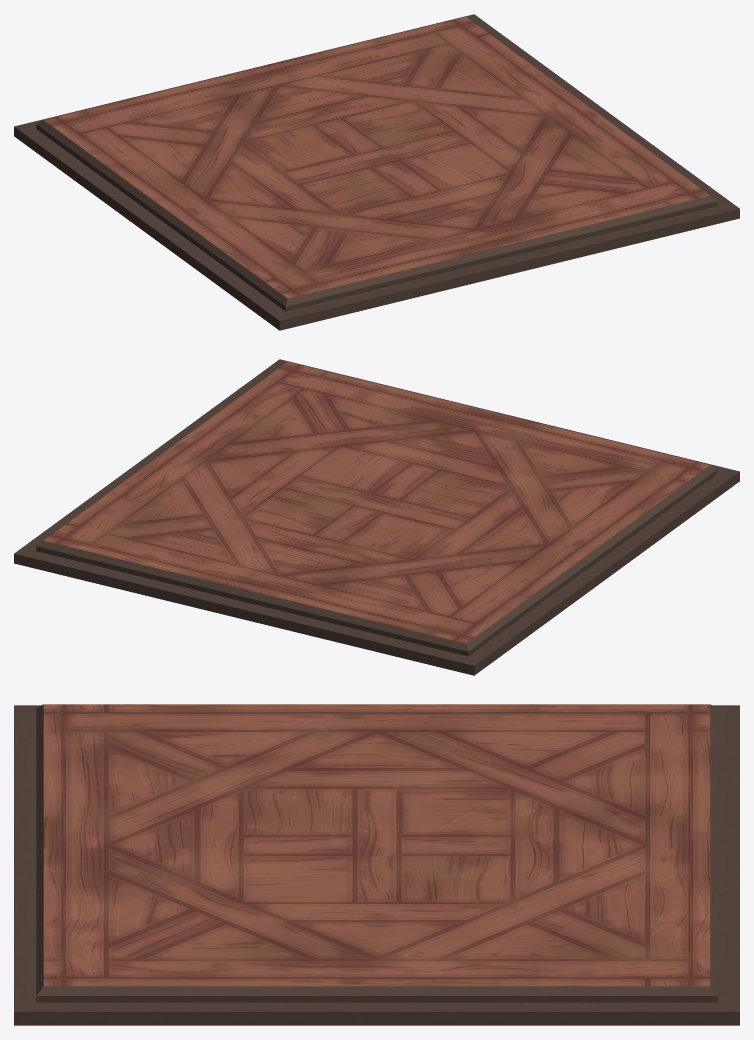
Rendered from WoodPlatform.glb.
The picture shows the model from 3 angles, top to bottom: view 1: azimuth 30°, elevation 25°; view 2: azimuth 150°, elevation 25°; view 3: azimuth 270°, elevation 25°; orthographic projection. The views are drawn at different scales.
Parts seen in each view (by area): view 1: WoodPlatform; view 2: WoodPlatform; view 3: WoodPlatform.
Boxes of the visible parts, x1,y1,x2,y2 form: WoodPlatform: (14, 14, 739, 330); WoodPlatform: (14, 359, 739, 675); WoodPlatform: (14, 704, 739, 1025).
Size of what is drawn, in the model's own units: 4.25 by 0.173 by 4.25.
Materials: 2 (2 with a texture image).
